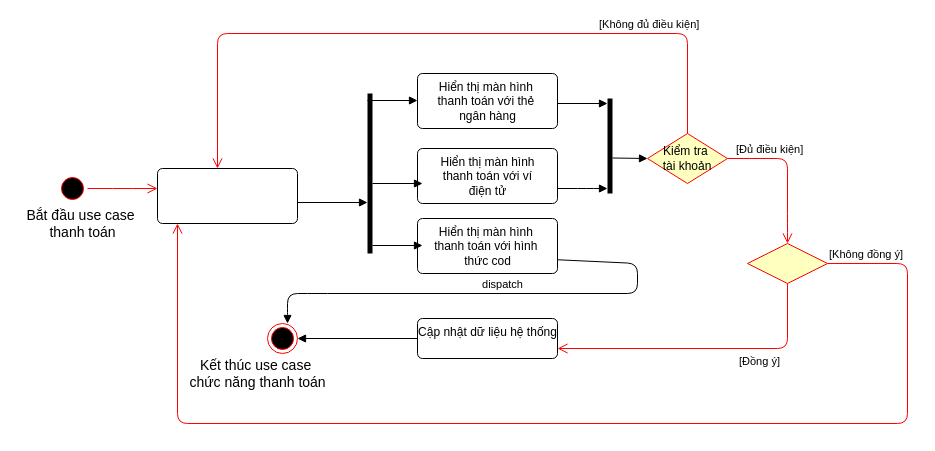
The diagram is 935 pixels wide and 451 high, and some of its shapes have lost their labels. Here are the shapes that lost their labels. From the top down, the centre of each, then its label:
At pixel 227 196: "Hiển thị trang màn hình chính của chức năng thanh toán".
At pixel 787 263: "Xác thực".
